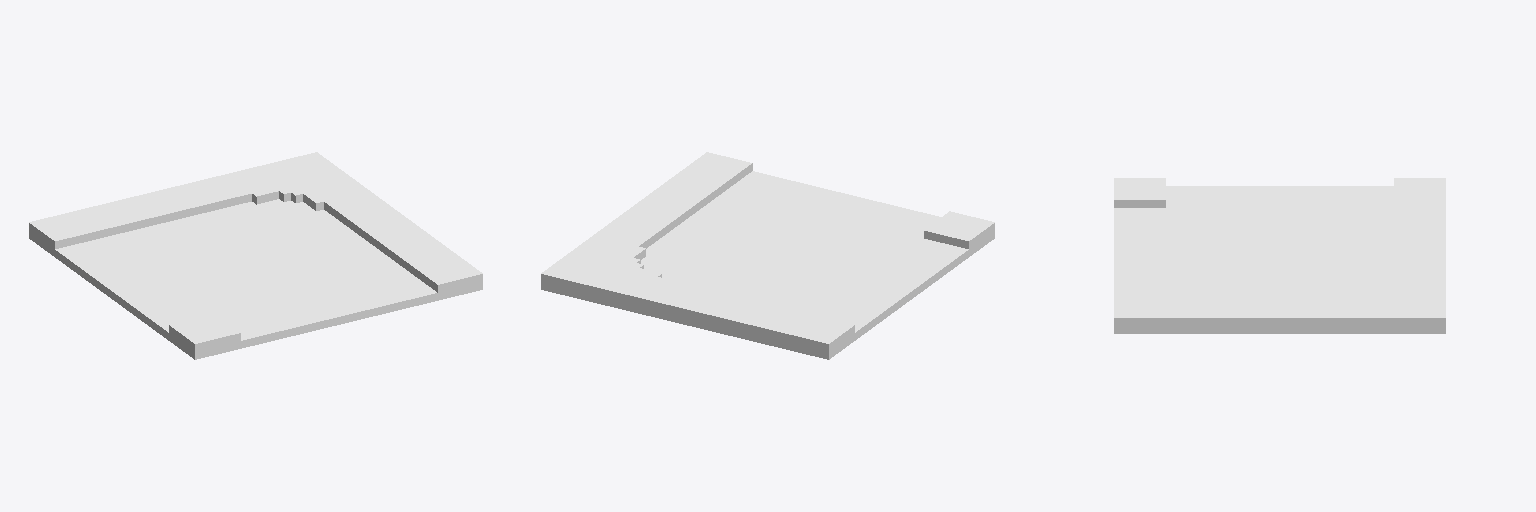
File: RoadL.obj
The picture shows the model from 3 angles: view 1: azimuth 30°, elevation 25°; view 2: azimuth 150°, elevation 25°; view 3: azimuth 270°, elevation 25°; orthographic projection.
Visible parts, largest first — view 1: object 1; view 2: object 1; view 3: object 1.
Boxes of the visible parts, box(x1,y1,x2,y2) form: object 1: box(29, 152, 482, 359); object 1: box(541, 152, 994, 359); object 1: box(1114, 178, 1445, 333).
Bounding box in the file's own units: 3.8 × 0.2 × 3.8.